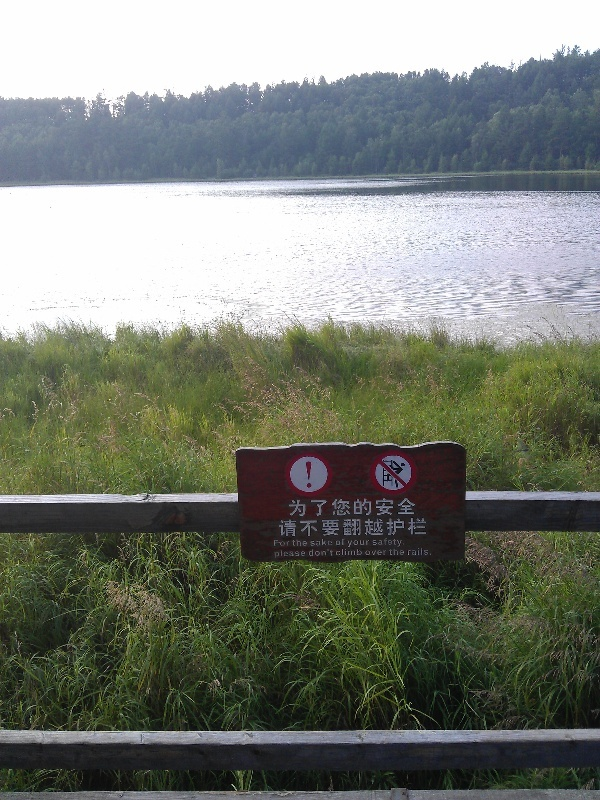text: (401, 497, 417, 519), (289, 497, 304, 519), (305, 497, 320, 519), (321, 497, 336, 519), (337, 497, 352, 519), (353, 497, 368, 519), (369, 497, 384, 519), (385, 497, 400, 519), (289, 517, 304, 538), (305, 517, 320, 538), (321, 517, 336, 538), (337, 517, 352, 538), (353, 517, 368, 538), (369, 517, 384, 538), (385, 517, 400, 538), (401, 517, 416, 538), (417, 517, 429, 538), (278, 517, 288, 538), (289, 549, 304, 559), (353, 539, 368, 548), (385, 538, 400, 547), (275, 549, 288, 559), (337, 549, 352, 557), (417, 548, 432, 556), (274, 540, 288, 548), (372, 538, 384, 547), (321, 549, 334, 557), (292, 539, 304, 547), (321, 539, 333, 547), (308, 549, 320, 557), (310, 539, 320, 547), (353, 549, 363, 557), (389, 549, 400, 556), (369, 551, 384, 556), (337, 538, 346, 546), (407, 548, 416, 556), (348, 539, 352, 548), (401, 549, 405, 556), (401, 538, 404, 547), (305, 539, 308, 547), (289, 540, 291, 548), (365, 551, 368, 556), (305, 549, 306, 559), (385, 551, 387, 556), (369, 539, 370, 548)
